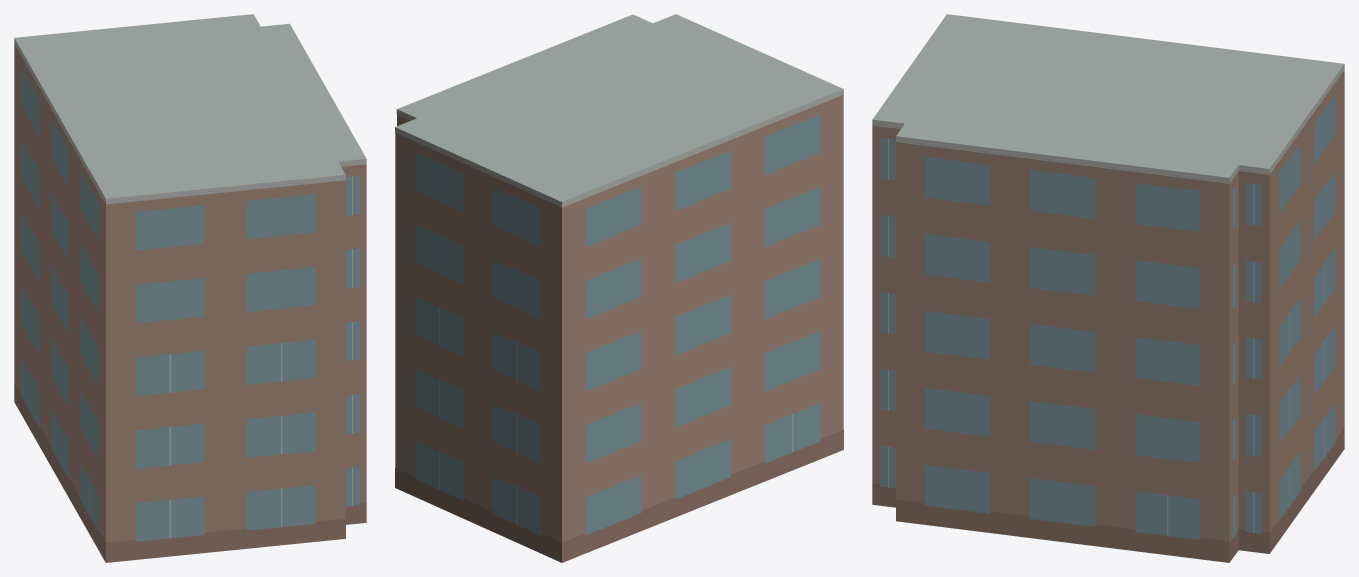
File: survey-upis-32877590.glb
The picture shows the model from 3 angles, left to right: view 1: azimuth 30°, elevation 25°; view 2: azimuth 150°, elevation 25°; view 3: azimuth 270°, elevation 25°; orthographic projection. The views are drawn at different scales.
Parts seen in each view (by area): view 1: survey-upis-32877590.tmp; view 2: survey-upis-32877590.tmp; view 3: survey-upis-32877590.tmp.
Boxes of the visible parts, box(x1,y1,x2,y2) form: survey-upis-32877590.tmp: box(14, 14, 366, 562); survey-upis-32877590.tmp: box(395, 14, 843, 562); survey-upis-32877590.tmp: box(872, 14, 1344, 562).
Bounding box in the file's own units: 14.43 × 15.8 × 17.58.
